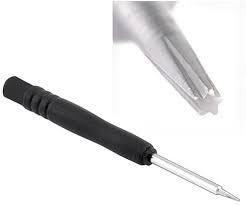screwdriver: (1, 75, 163, 171), (112, 0, 223, 114)
